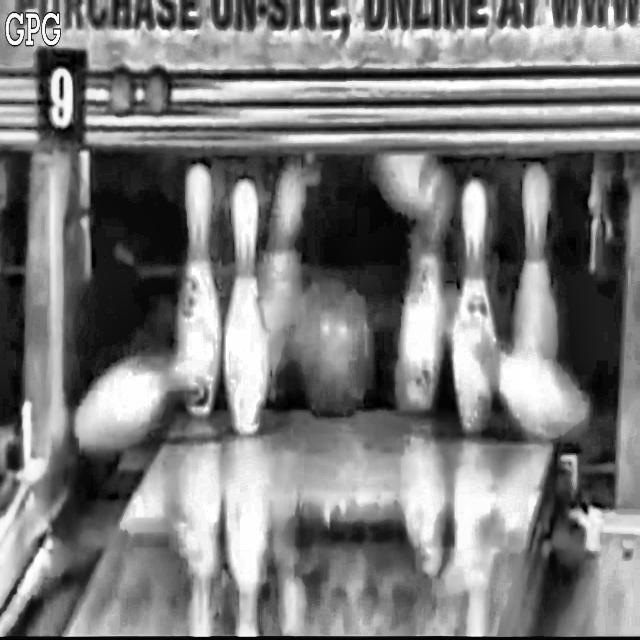bowling-ball: (300, 281, 370, 415)
bowling-pins: (175, 164, 221, 417), (453, 178, 498, 432), (224, 179, 268, 434), (513, 162, 558, 359)
